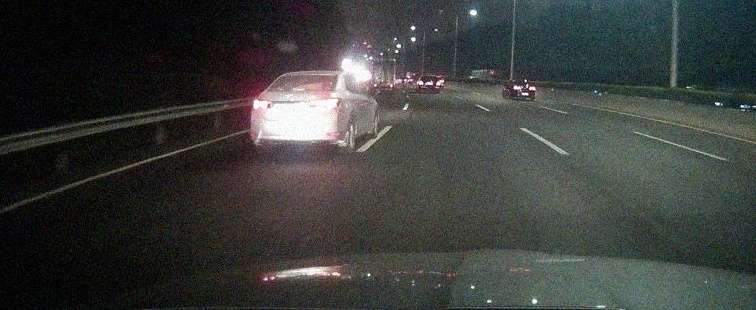L_light: (252, 100, 274, 109)
R_light: (312, 98, 339, 108)
T_light: (292, 88, 306, 91)
night-no: (250, 70, 342, 154)
